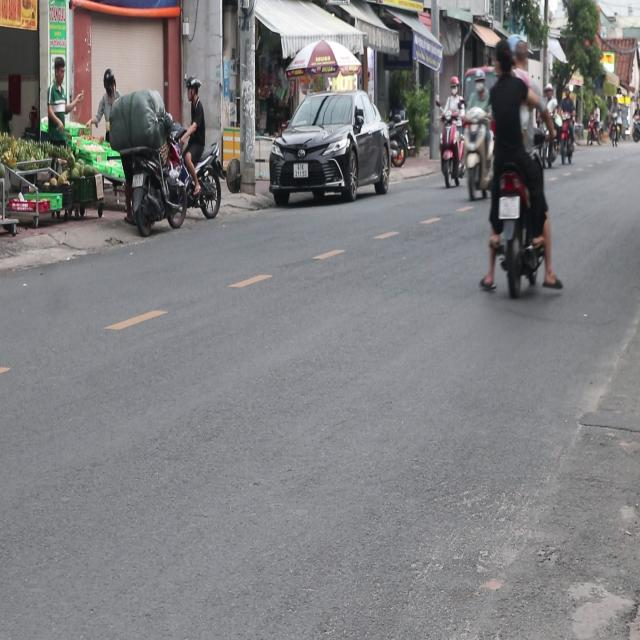helmet: (185, 73, 200, 101)
licenseplate: (481, 32, 555, 297)
motorcyclist: (492, 37, 512, 76), (511, 38, 529, 73)
nohelmet: (498, 196, 519, 218)
